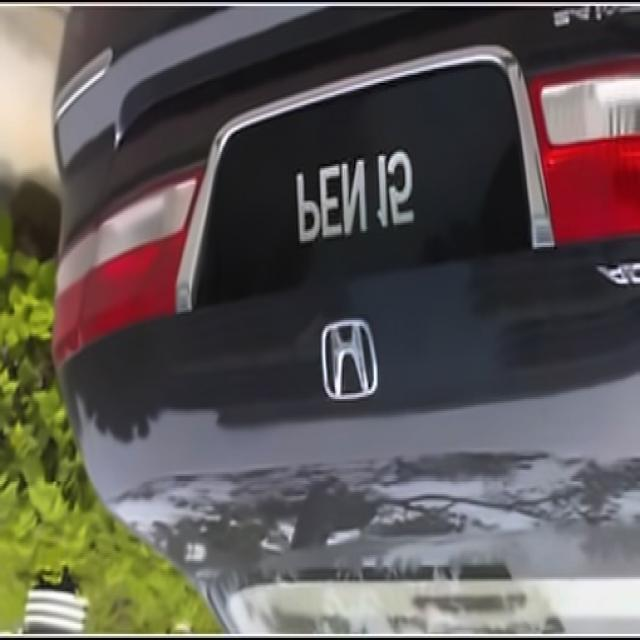car-plate: (192, 46, 532, 332)
